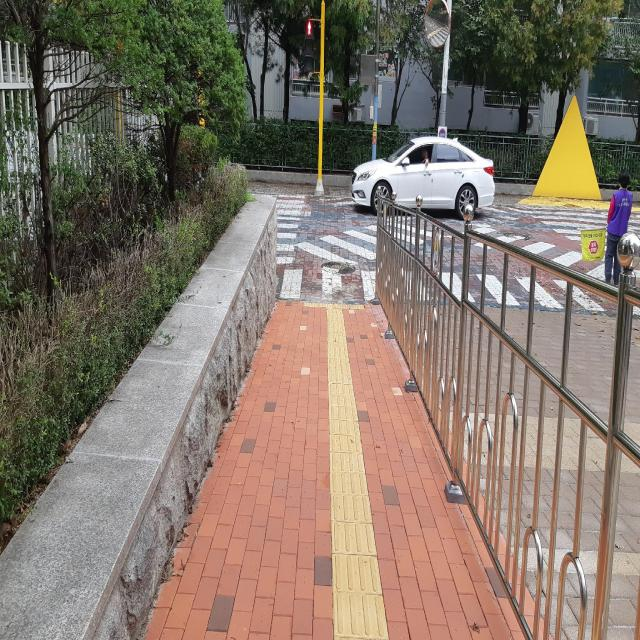빨간불: (303, 19, 315, 74)
횡단보도: (278, 183, 602, 303)
